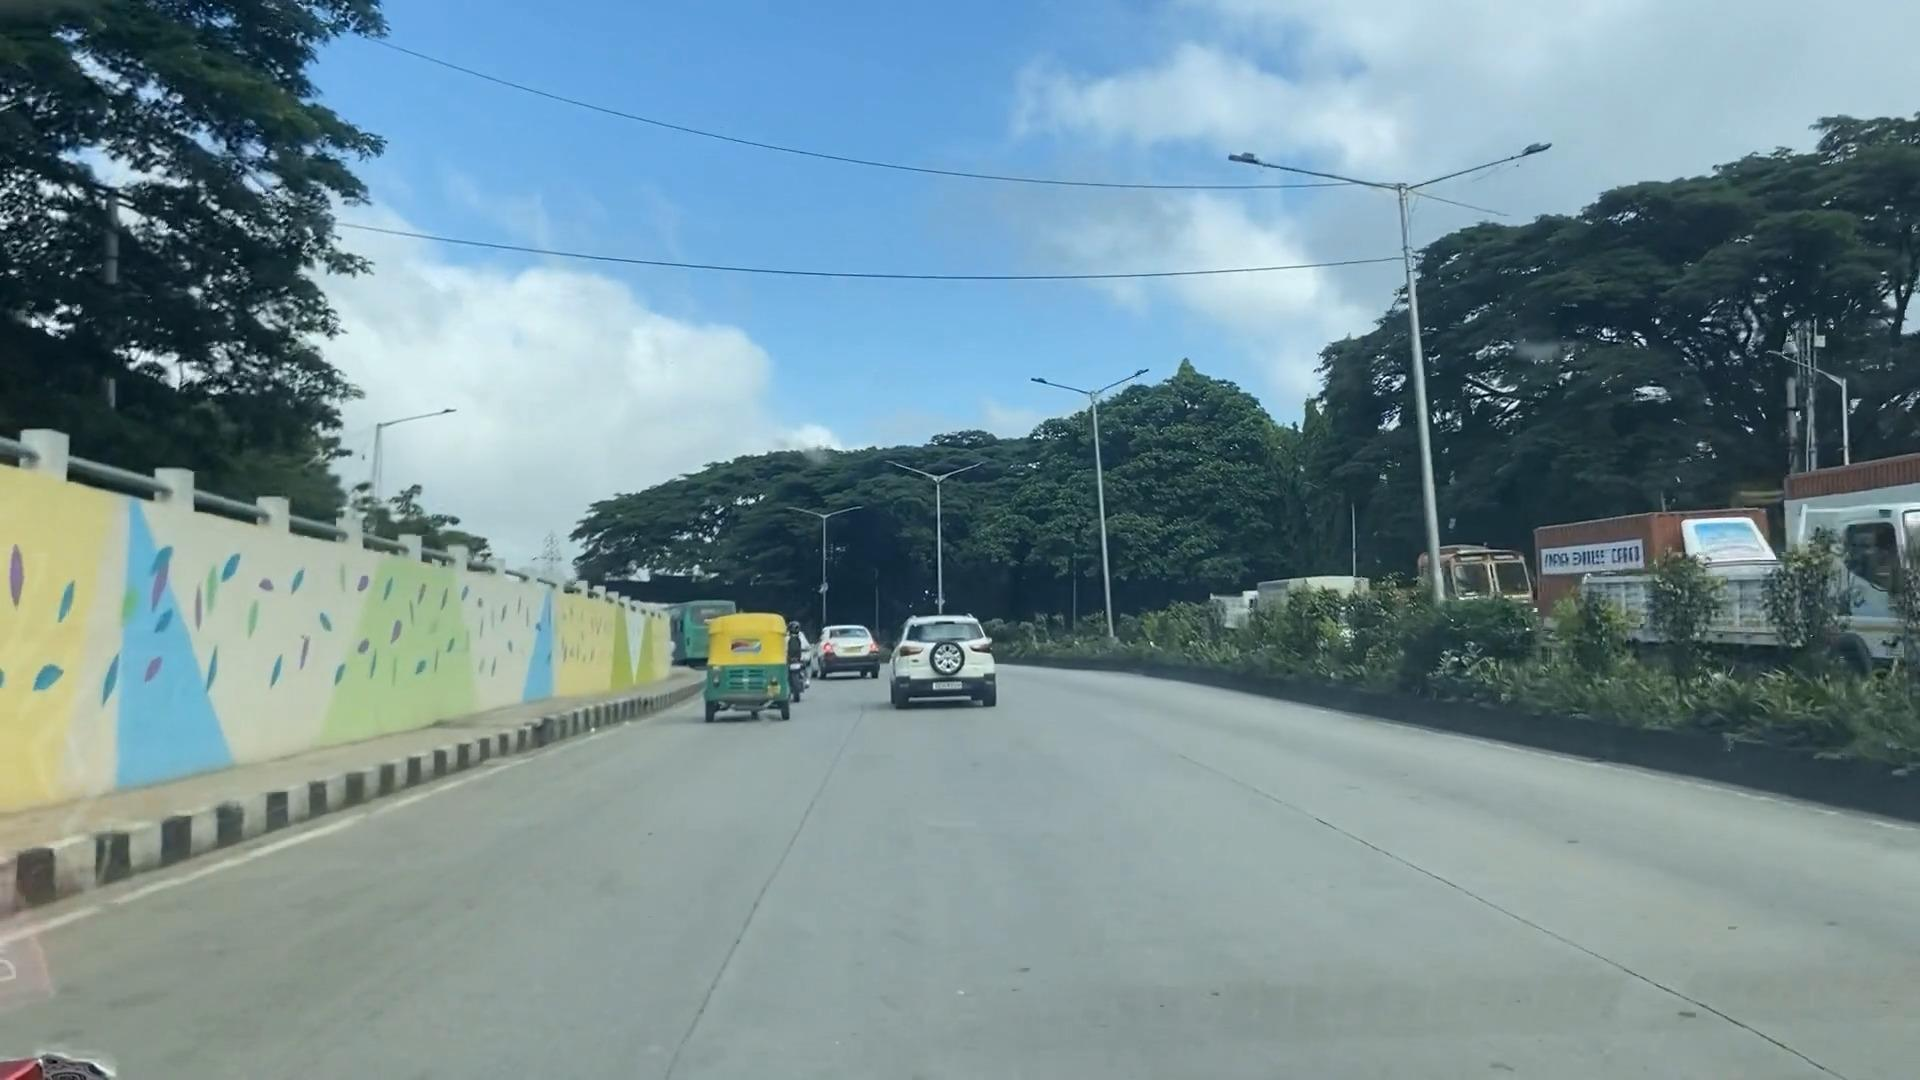LMV: (699, 625, 794, 710), (903, 620, 997, 696)
